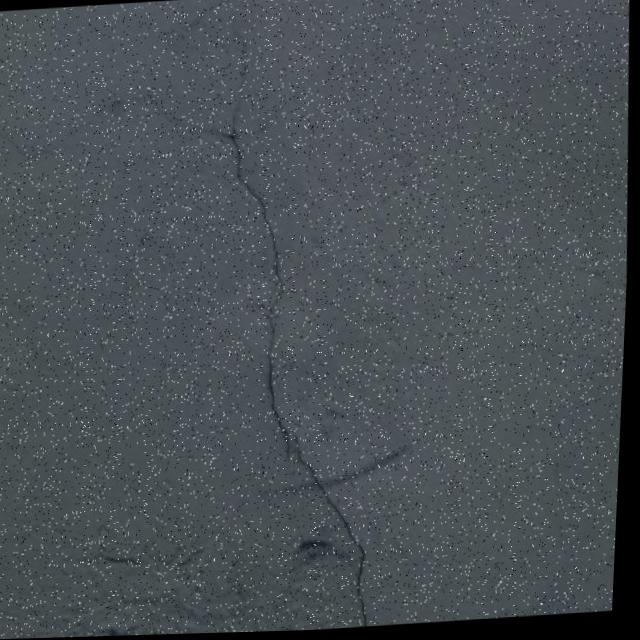Crack: (176, 71, 405, 635)
